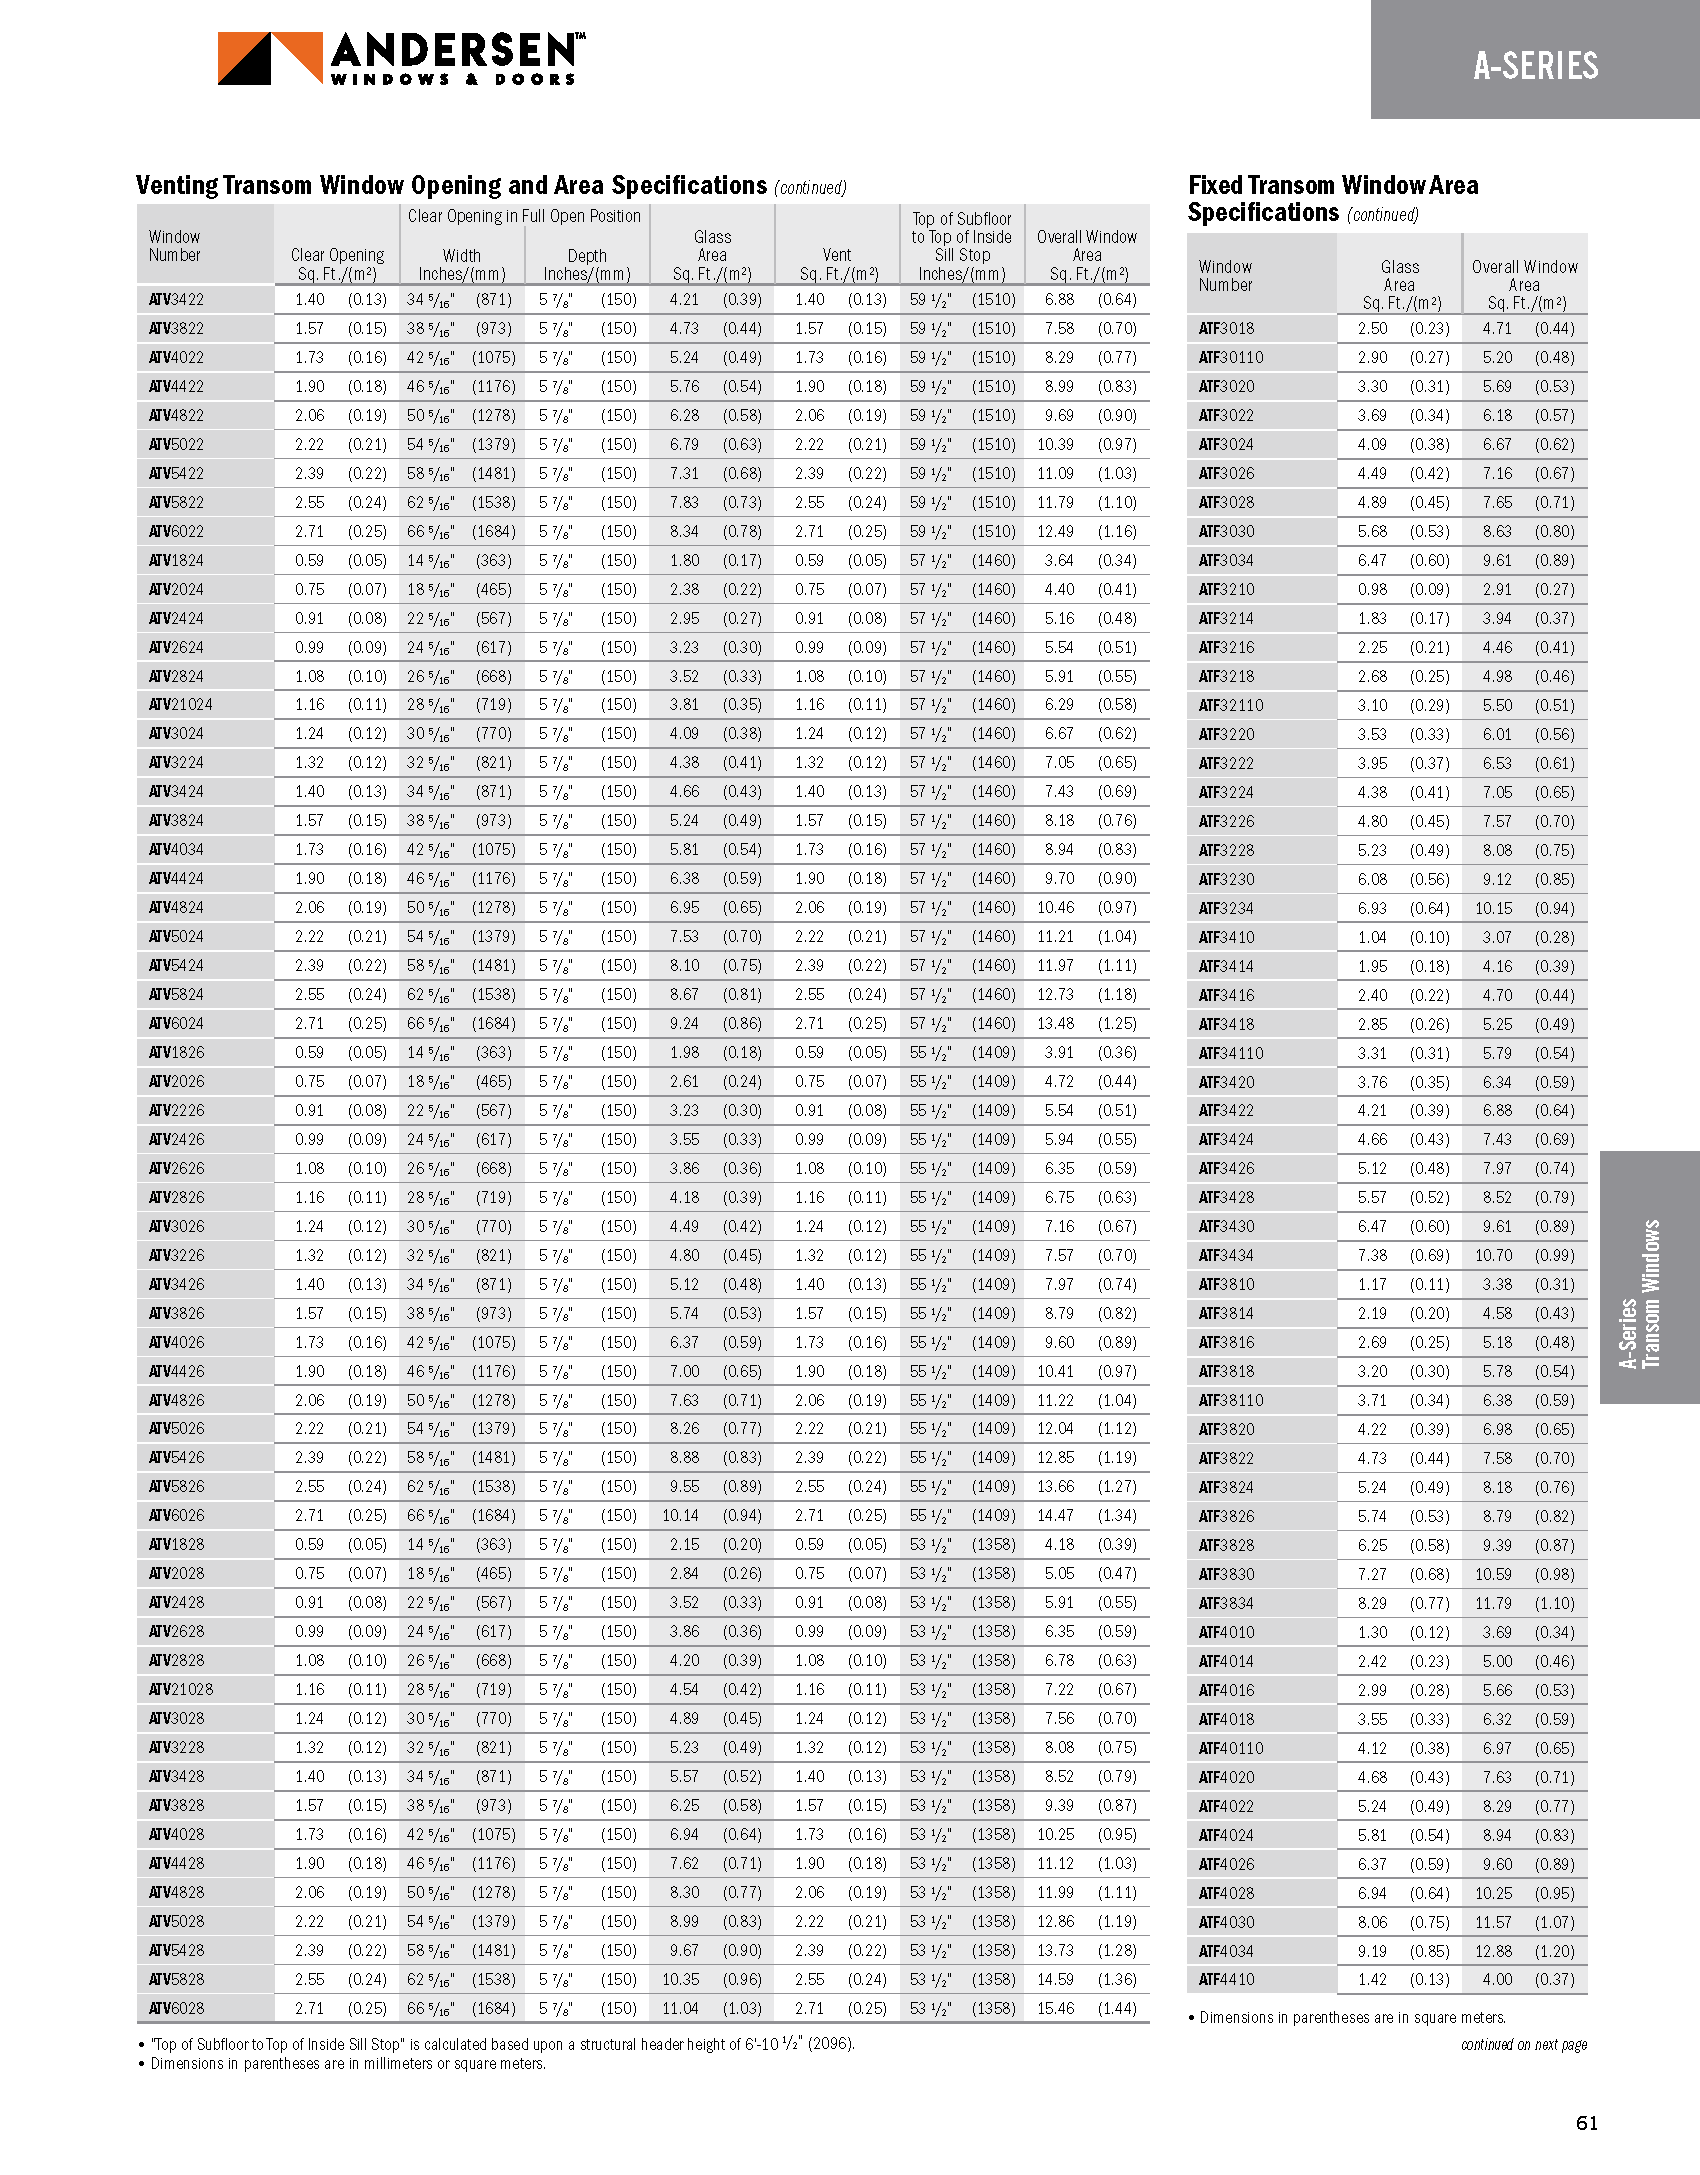tabledetected: (136, 205, 1153, 2023), (1185, 235, 1589, 1993)
